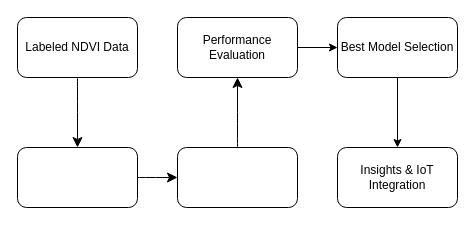
Some shapes in this 475 by 225 pixel diagram are drawn without their labels. Here are the shapes that lost their labels. From the top down, the centre of each, then its label:
At point 77,177: "Model Trining (RF, SVM, CNN)".
At point 237,177: "Model Testing".
